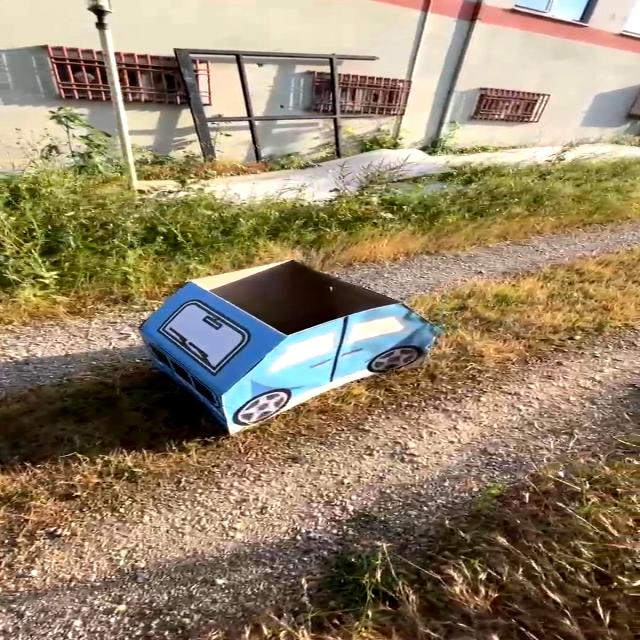blue_car: (67, 229, 476, 464)
